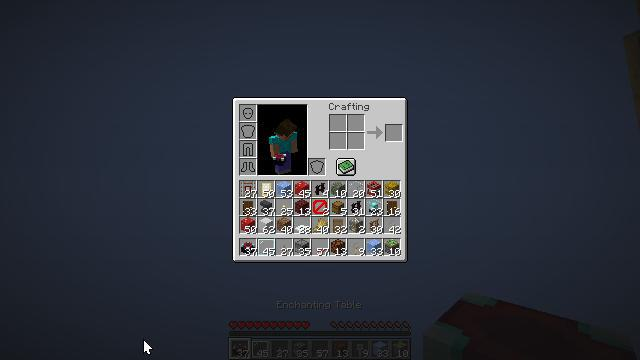cursor: (339, 143, 355, 153)
